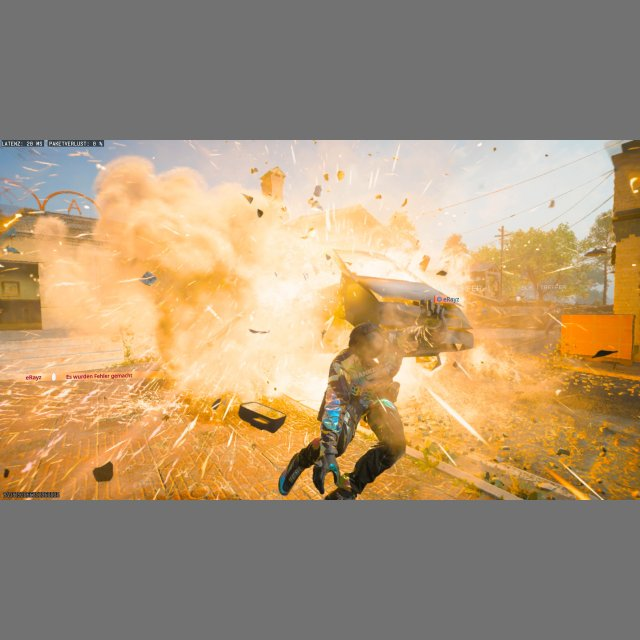head: (348, 321, 391, 365)
player: (278, 296, 470, 499)
